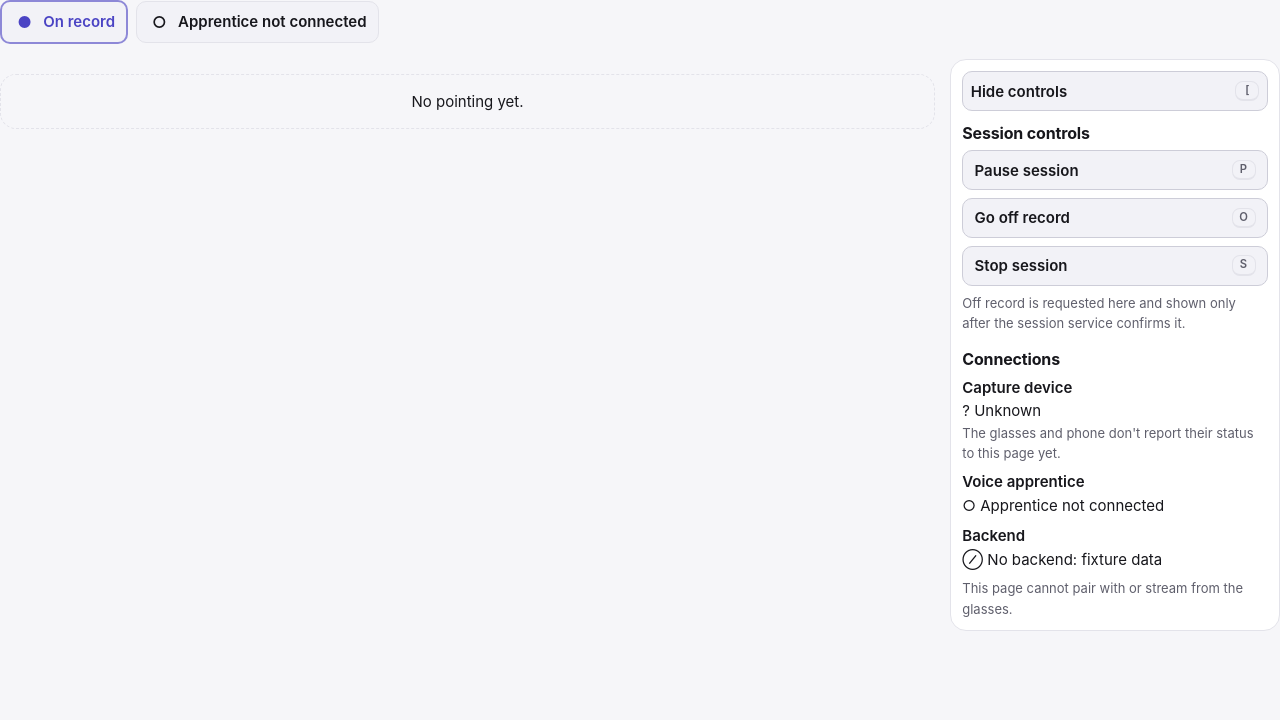
ExpertCompanion: off-record is shown only after acknowledgement › the acknowledgement may arrive through subscribe
Expected: the element with test id "control-rail" is shown, [950,59,1279,631]
What coordinates should you click on to do the following:
click the button "Go off record O"
I would click on:
 (1022, 218)
Its box is [962,198,1268,238].
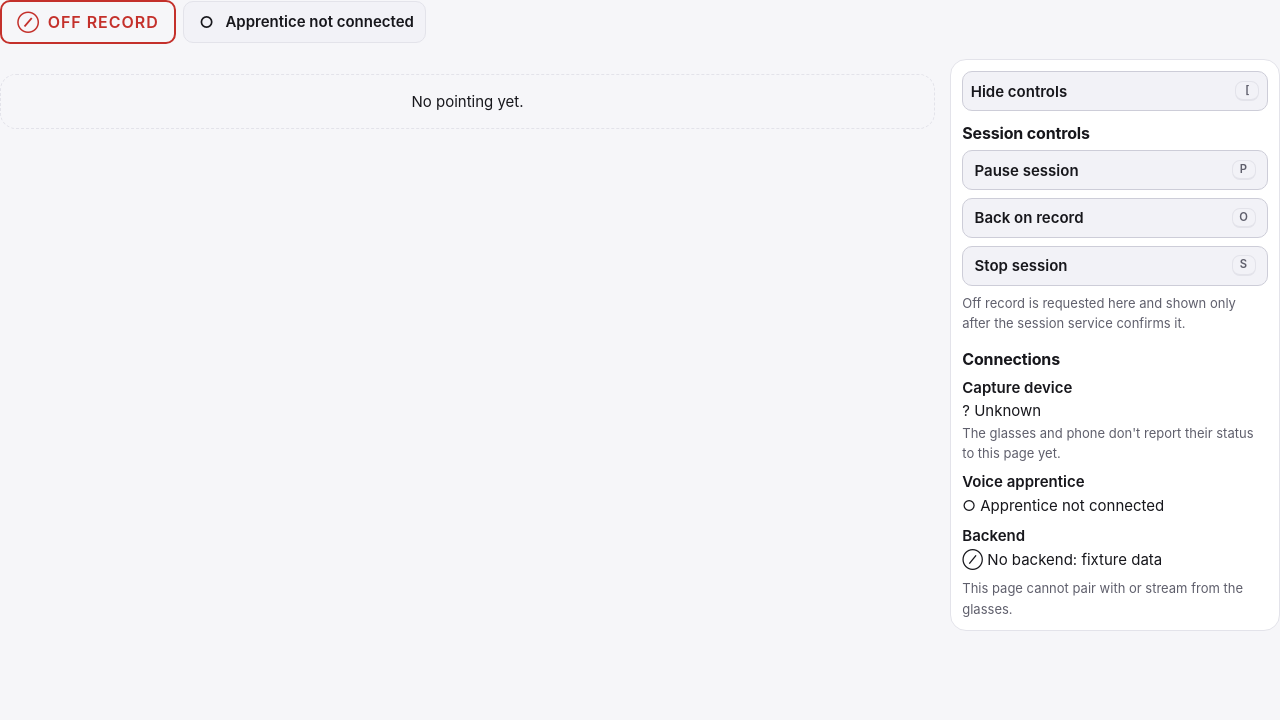
Now the message "⊘ OFF RECORD" is shown, box [0,0,176,44]
